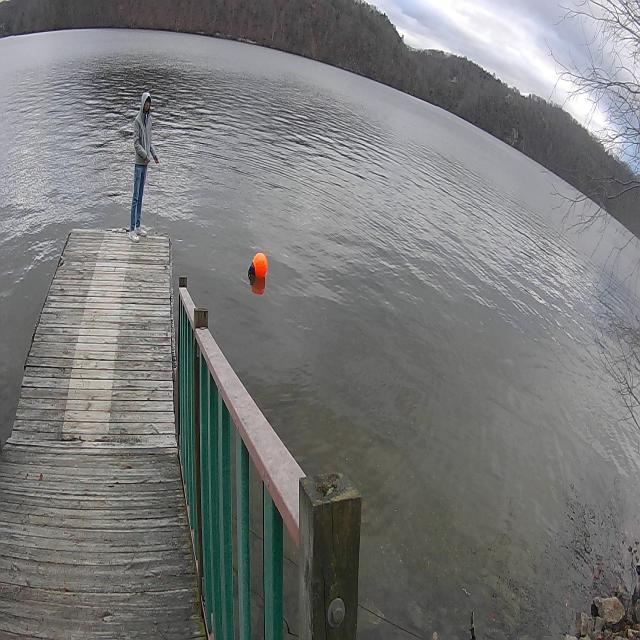Buoy: (247, 246, 269, 291)
